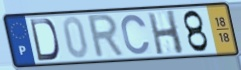0: (61, 15, 91, 61)
8: (182, 9, 210, 54)
C: (119, 13, 152, 56)
D: (29, 18, 61, 63)
H: (146, 9, 186, 56)
R: (86, 12, 127, 60)
